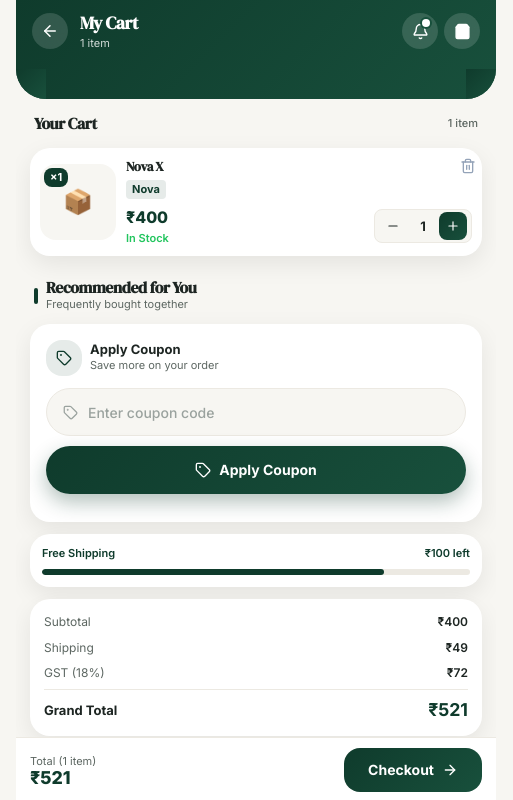
it: MobileCart › applies a coupon only after the server accepts it, and saves it for checkout
The width and height of the screenshot is (513, 800).
Expected: the heading "Nova X" is shown, left=126, top=158, right=166, bottom=176
Type "save10" into the field with placeholder "Enter coupon code" at (268, 412), box left=88, top=389, right=449, bottom=435
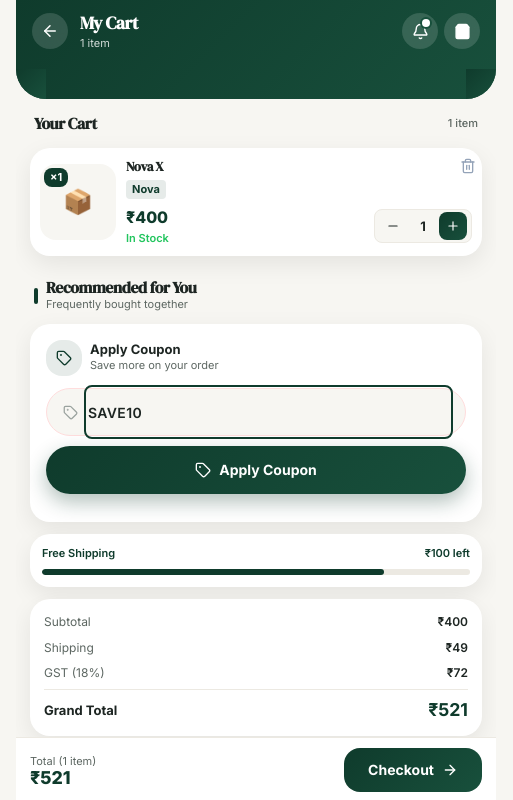
Click the button "Apply Coupon" at (256, 470), box left=46, top=446, right=466, bottom=494
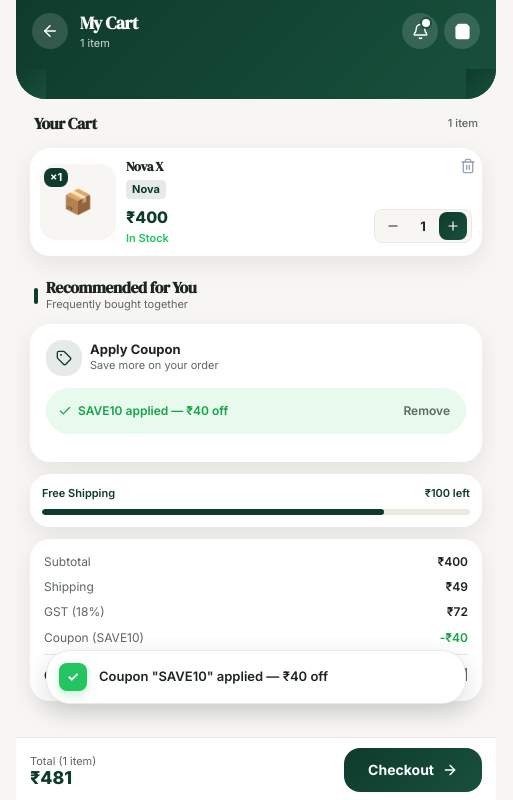
Expected: the text "₹481" in the row of "Grand Total" is shown, left=427, top=664, right=468, bottom=685
